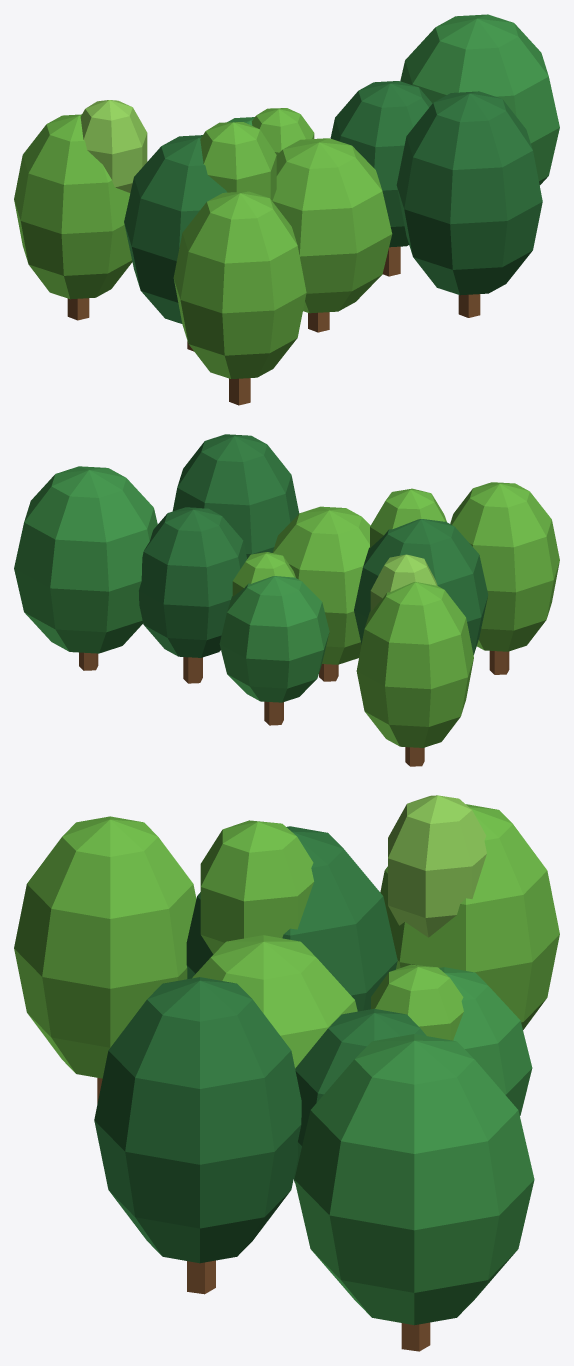
File: Arboleda1.fbx
3 views of the same model, one above another, from view 1: azimuth 30°, elevation 25°; view 2: azimuth 150°, elevation 25°; view 3: azimuth 270°, elevation 25° (orthographic). The views are drawn at different scales.
Visible parts, largest first — view 1: Arboleda1; view 2: Arboleda1; view 3: Arboleda1.
Boxes of the visible parts, <box> form: Arboleda1: <box>14,14,559,405</box>; Arboleda1: <box>14,434,559,766</box>; Arboleda1: <box>14,795,559,1351</box>.
Bounding box in the file's own units: 36.22 × 15.43 × 23.93.
Materials: 1 (1 with a texture image).
